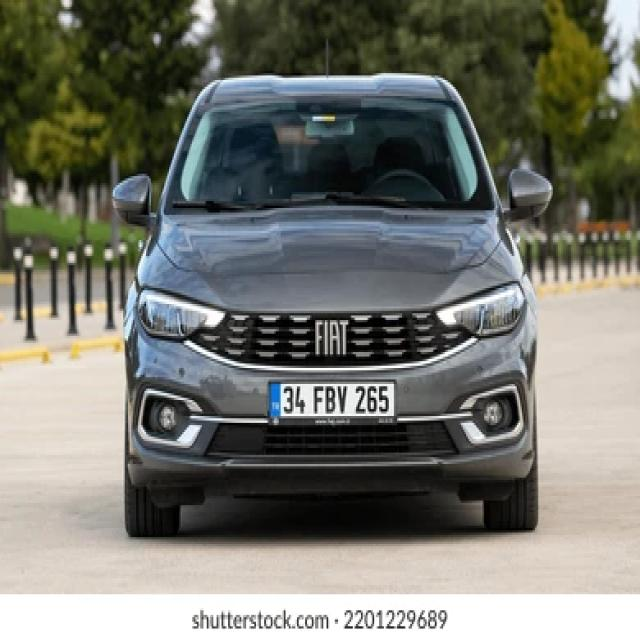fiat: (314, 317, 351, 362)
